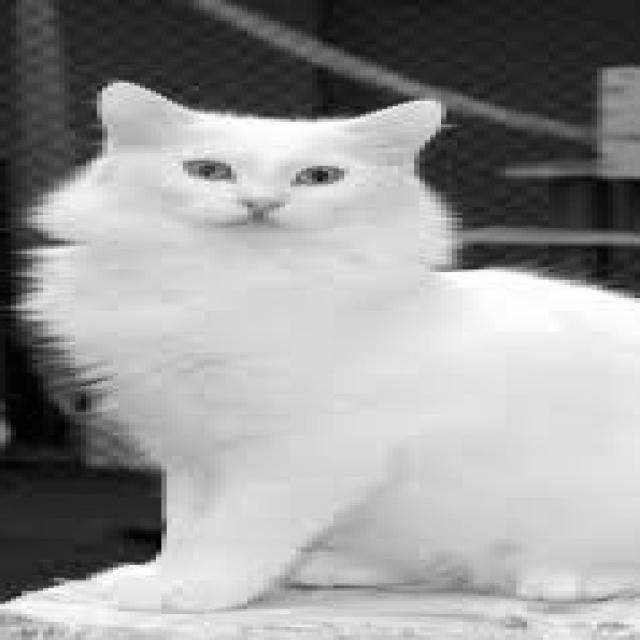van: (51, 80, 465, 248)
